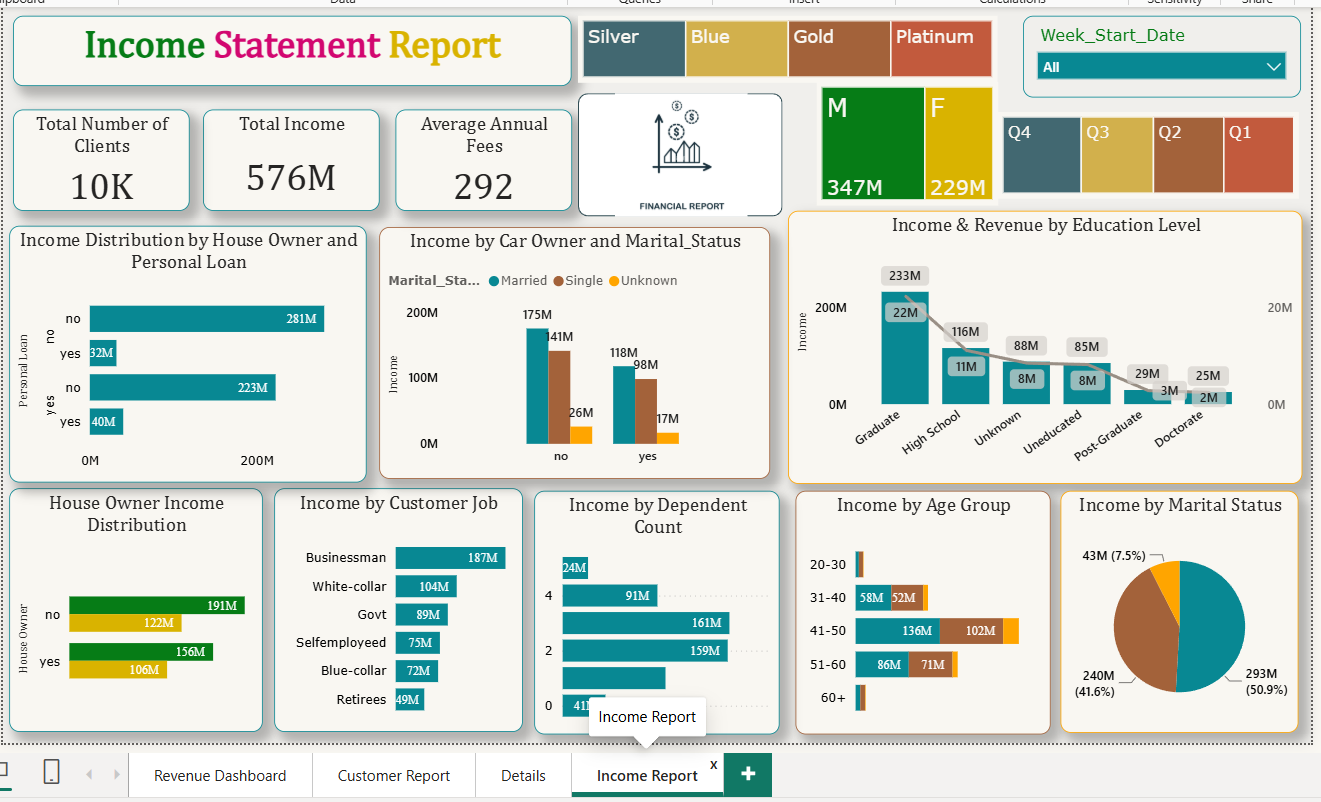

The dashboard page shown, as its layout file describes it:
{"tool":"powerbi","page":{"name":"Income Report","canvas":[1280,720],"ordinal":3},"visuals":[{"type":"clusteredBarChart","title":"House Owner Income Distribution","fields":{"Category":["customer.House_Owner"],"Y":["Sum(customer.Income)"],"Series":["customer.Gender"]},"box":[6.5,471.2,247.7,238],"z":0},{"type":"textbox","box":[9.8,4.9,546.7,97.6],"z":1000},{"type":"barChart","title":" Income by Customer Job","fields":{"Category":["customer.Customer_Job"],"Y":["Sum(customer.Income)"]},"box":[265.6,471.2,242.9,238],"z":2000},{"type":"lineClusteredColumnComboChart","title":"Income &  Revenue by Education Level","fields":{"Category":["customer.Education_Level"],"Y":["Sum(customer.Income)"],"Y2":["Sum(credit_card.Revenue)"]},"box":[767.5,199.2,503.6,267.2],"z":3000},{"type":"barChart","title":"Income by Age Group","fields":{"Category":["customer.Age Group"],"Y":["Sum(customer.Income)"],"Series":["customer.Marital_Status"]},"box":[775.6,472.8,249.4,238],"z":4000},{"type":"barChart","title":"Income by Dependent Count","fields":{"Y":["Sum(customer.Income)"],"Category":["customer.Dependent_Count"]},"box":[519.8,472.8,240,238],"z":5000},{"type":"clusteredBarChart","title":"Income Distribution by House Owner and Personal Loan","fields":{"Category":["customer.House_Owner","customer.Personal_loan"],"Y":["Sum(customer.Income)"]},"box":[6.5,213.7,349.8,251],"z":6000},{"type":"clusteredColumnChart","title":" Income by Car Owner and Marital_Status","fields":{"Category":["customer.Car_Owner"],"Y":["Sum(customer.Income)"],"Series":["customer.Marital_Status"]},"box":[367.6,215.4,382.1,246.1],"z":7000},{"type":"treemap","fields":{"Values":["Sum(customer.Income)"],"Group":["customer.Gender"]},"box":[795.7,73.2,177.4,120.4],"z":8000},{"type":"pieChart","title":" Income by Marital Status","fields":{"Category":["customer.Marital_Status"],"Y":["Sum(customer.Income)"]},"box":[1034.7,472.8,233.2,236.4],"z":9000},{"type":"card","title":"Total Income","fields":{"Values":["Sum(customer.Income)"]},"box":[195.7,100.3,172.5,99.3],"z":10000},{"type":"treemap","fields":{"Group":["credit_card.Qtr"],"Values":["Avg(credit_card.Client_Num)"]},"box":[973,102.5,294.5,84.6],"z":11000},{"type":"treemap","fields":{"Group":["credit_card.Card_Category"],"Values":["Avg(credit_card.Client_Num)"]},"box":[563.1,8,410.4,65.2],"z":12000},{"type":"slicer","fields":{"Values":["credit_card.Week_Start_Date"]},"box":[997.4,8.1,271.7,79.7],"z":13000},{"type":"card","title":"Total Number of Clients","fields":{"Values":["CountNonNull(customer.Client_Num)"]},"box":[9.8,100.3,172.5,99.3],"z":14000},{"type":"card","title":"Average Annual Fees","fields":{"Values":["Avg(credit_card.Annual_Fees)"]},"box":[384,102.7,172.5,99.3],"z":15000},{"type":"shape","box":[563,84.6,200.1,120.4],"z":15062},{"type":"image","box":[572.8,84.6,182.2,120.4],"z":15125}]}

Visuals, with their boxes in screenshot pixels (x1, y1, x2, y2):
"House Owner Income Distribution" clusteredBarChart: BBox(7, 486, 259, 729)
textbox: BBox(10, 12, 566, 111)
" Income by Customer Job" barChart: BBox(270, 486, 518, 729)
"Income &  Revenue by Education Level" lineClusteredColumnComboChart: BBox(781, 210, 1294, 482)
"Income by Age Group" barChart: BBox(789, 488, 1043, 730)
"Income by Dependent Count" barChart: BBox(529, 488, 773, 730)
"Income Distribution by House Owner and Personal Loan" clusteredBarChart: BBox(7, 224, 363, 480)
" Income by Car Owner and Marital_Status" clusteredColumnChart: BBox(374, 226, 763, 477)
treemap - Sum(customer.Income) x customer.Gender: BBox(810, 81, 990, 204)
" Income by Marital Status" pieChart: BBox(1053, 488, 1290, 729)
"Total Income" card: BBox(199, 109, 375, 210)
treemap - credit_card.Qtr x Avg(credit_card.Client_Num): BBox(990, 111, 1290, 197)
treemap - credit_card.Card_Category x Avg(credit_card.Client_Num): BBox(573, 15, 991, 81)
slicer - credit_card.Week_Start_Date: BBox(1015, 15, 1292, 96)
"Total Number of Clients" card: BBox(10, 109, 186, 210)
"Average Annual Fees" card: BBox(391, 111, 566, 212)
shape: BBox(573, 93, 777, 216)
image: BBox(583, 93, 768, 216)
